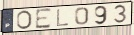0: (74, 7, 90, 26)
3: (112, 3, 128, 25)
9: (94, 5, 109, 26)
E: (35, 7, 53, 30)
L: (55, 9, 70, 27)
O: (16, 9, 34, 30)
